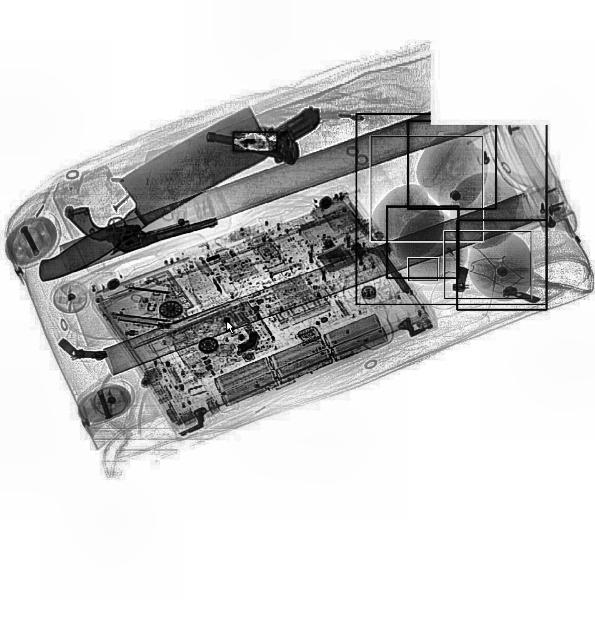Gun: (67, 173, 220, 264), (204, 82, 322, 170)
Knife: (15, 104, 277, 286)
